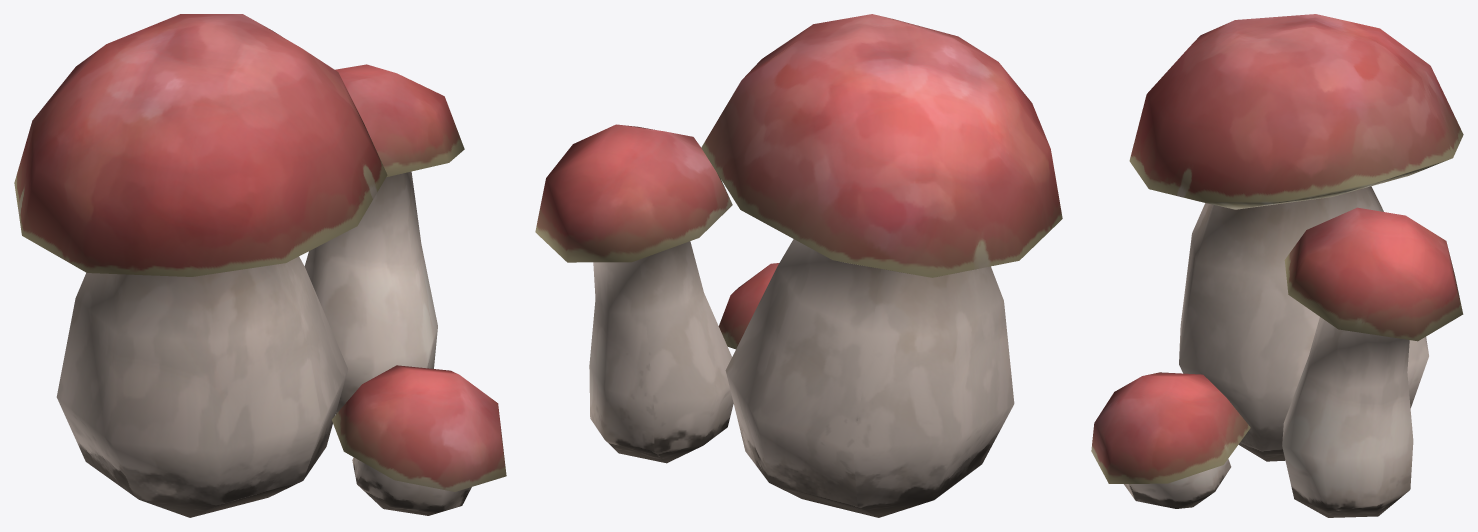
The model's file is Mushrooms_Boletus.fbx.
3 views of the same model, side by side, from view 1: azimuth 30°, elevation 25°; view 2: azimuth 150°, elevation 25°; view 3: azimuth 270°, elevation 25° (orthographic). The views are drawn at different scales.
Parts seen in each view (by area): view 1: polySurface5; view 2: polySurface5; view 3: polySurface5.
Part boxes in pixels (x1,y1,x2,y2): polySurface5: (14, 14, 506, 517); polySurface5: (535, 14, 1062, 517); polySurface5: (1091, 14, 1463, 517).
Bounding box in the file's own units: 17.66 × 17.46 × 14.1.
